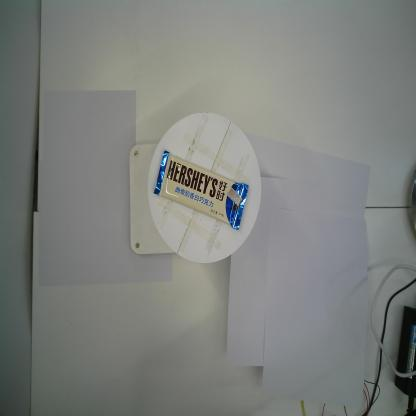Chocolate: (152, 148, 250, 234)
